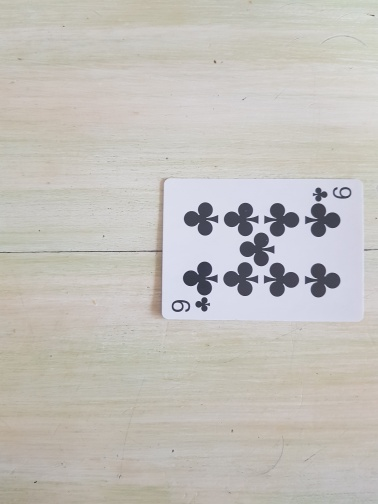nine: (160, 178, 366, 323)
